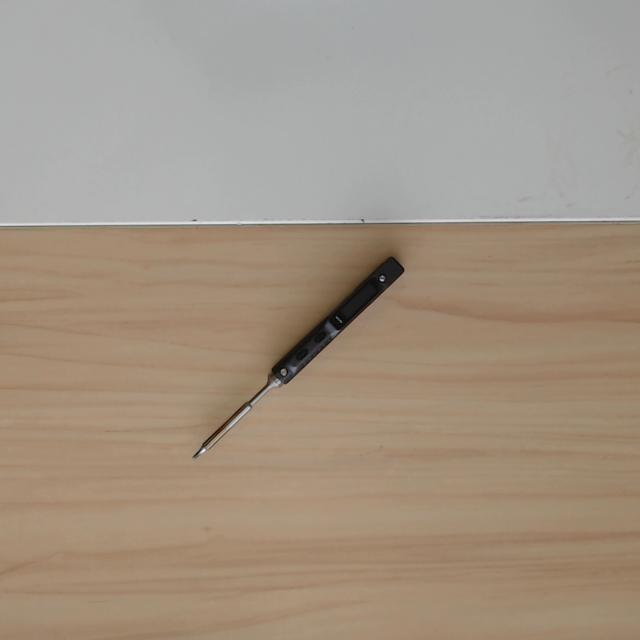Soldering-Iron: (183, 254, 407, 467)
